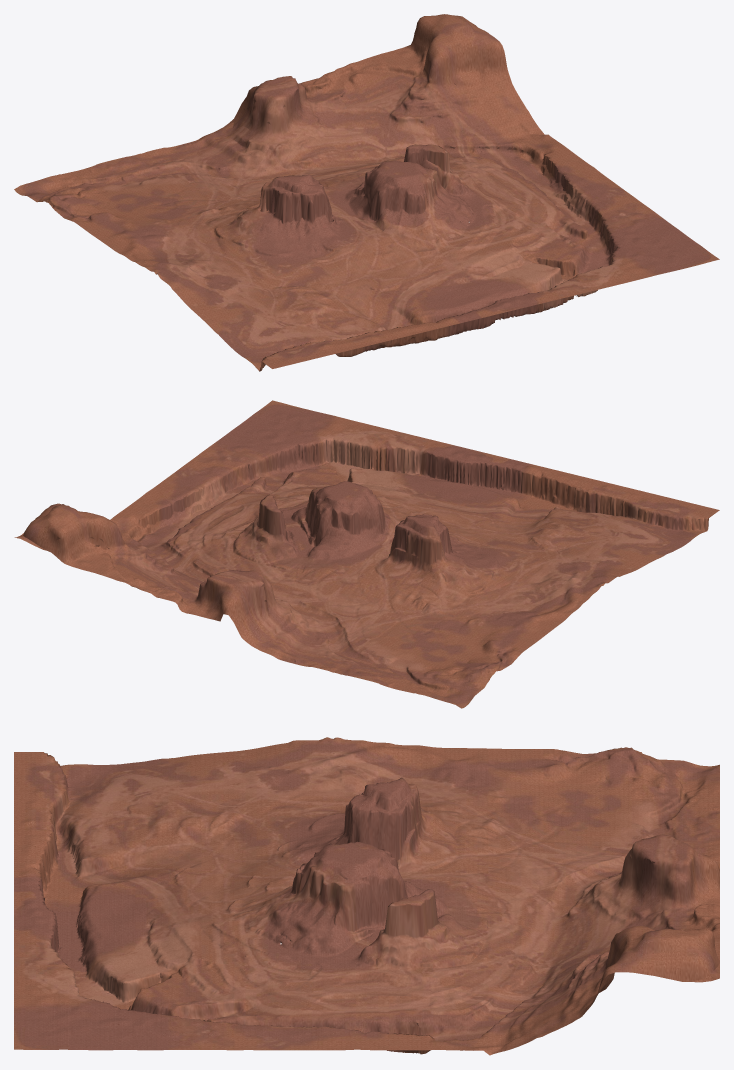
Rendered from terrain-canyon.glb.
3 renders of one model, top to bottom at view 1: azimuth 30°, elevation 25°; view 2: azimuth 150°, elevation 25°; view 3: azimuth 270°, elevation 25°, orthographic. The views are drawn at different scales.
Parts seen in each view (by area): view 1: Moon_0; view 2: Moon_0; view 3: Moon_0.
Boxes of the visible parts, x1=… form: Moon_0: x1=14, y1=14, x2=719, y2=371; Moon_0: x1=14, y1=400, x2=719, y2=708; Moon_0: x1=14, y1=737, x2=719, y2=1055.
Size of the model in its own units: 996 by 207 by 996.
Materials: 1 (1 with a texture image).
